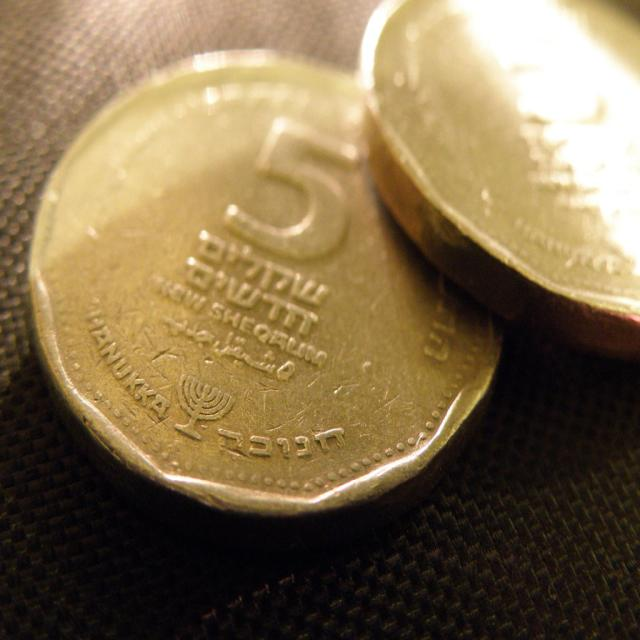Coin: (27, 42, 509, 518), (372, 0, 640, 352)
